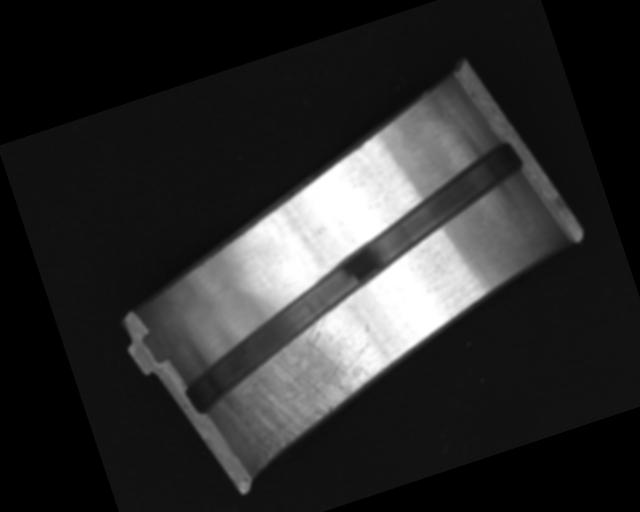gap: (142, 138, 566, 417)
scratch: (209, 303, 393, 469)
